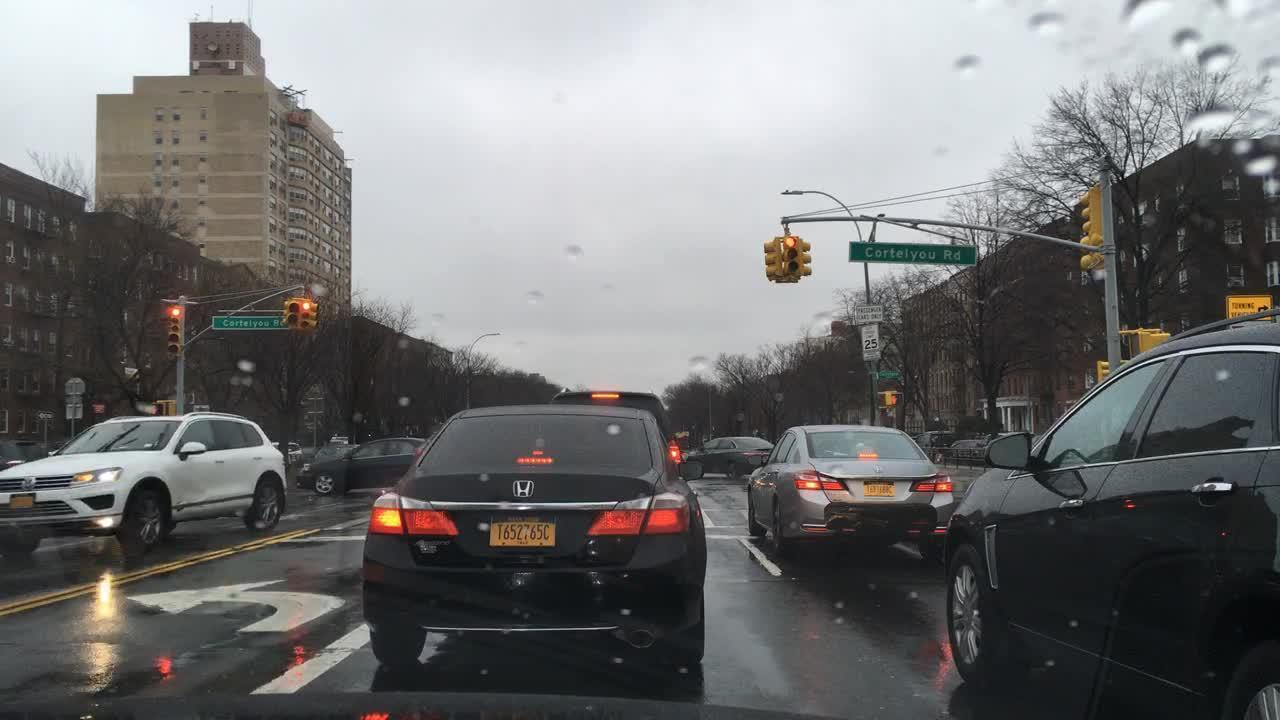Honda: (499, 471, 545, 505), (869, 458, 891, 482)
Volkswagen: (21, 474, 41, 494)
